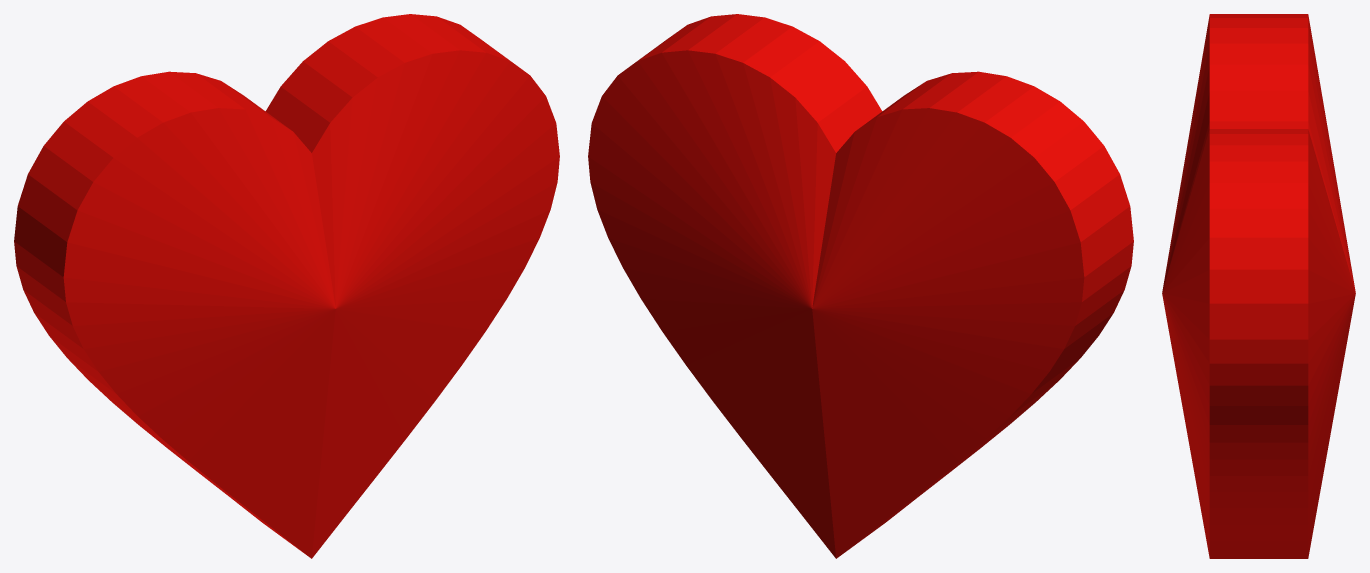
The model's file is heart.fbx.
3 views of the same model, side by side, from view 1: azimuth 30°, elevation 25°; view 2: azimuth 150°, elevation 25°; view 3: azimuth 270°, elevation 25° (orthographic).
Parts seen in each view (by area): view 1: Curve; view 2: Curve; view 3: Curve.
Boxes of the visible parts, left/top/right/bottom form: Curve: left=14, top=14, right=559, bottom=558; Curve: left=588, top=14, right=1133, bottom=558; Curve: left=1162, top=14, right=1355, bottom=558.
Size of the model in its own units: 31.48 by 28.85 by 10.73.
